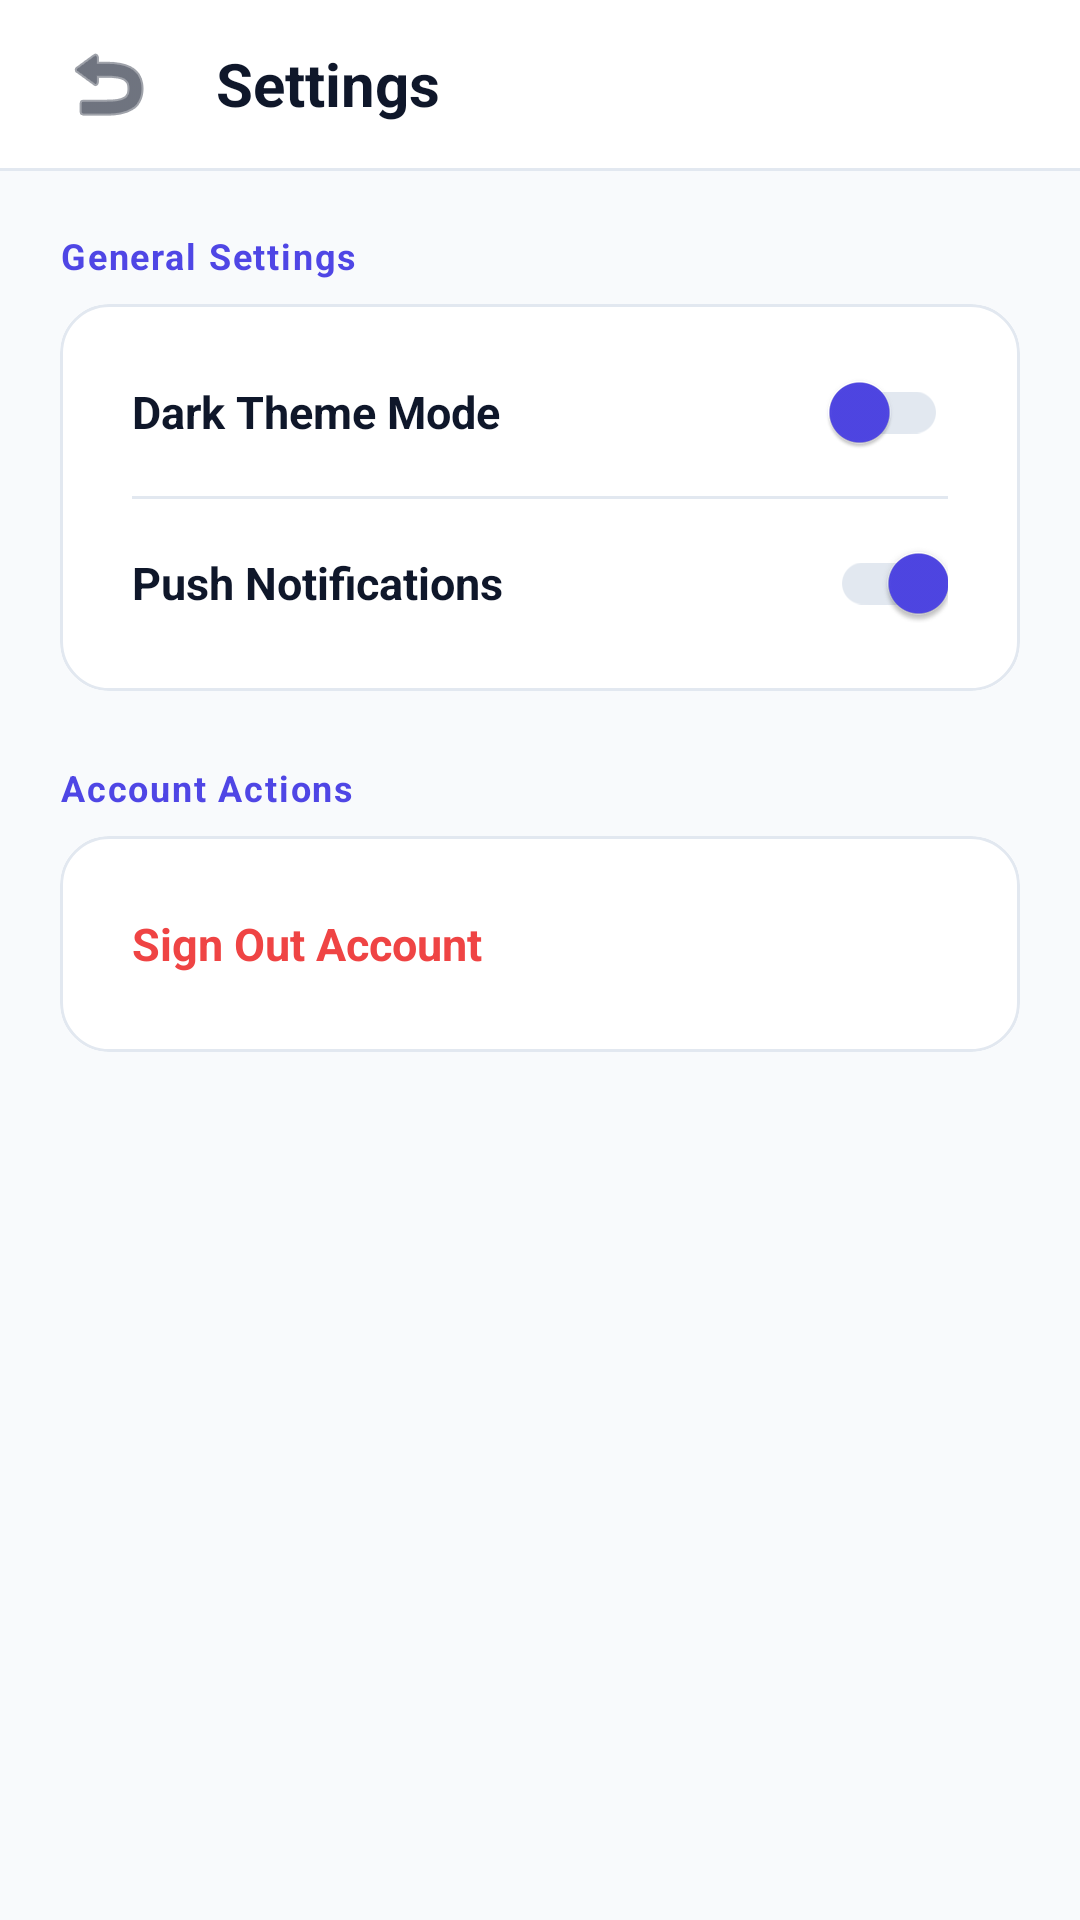

Icons on this 1080 × 1920 Android screen, each with the point to tap as (x=x, y=y):
Back: (x=109, y=84)
